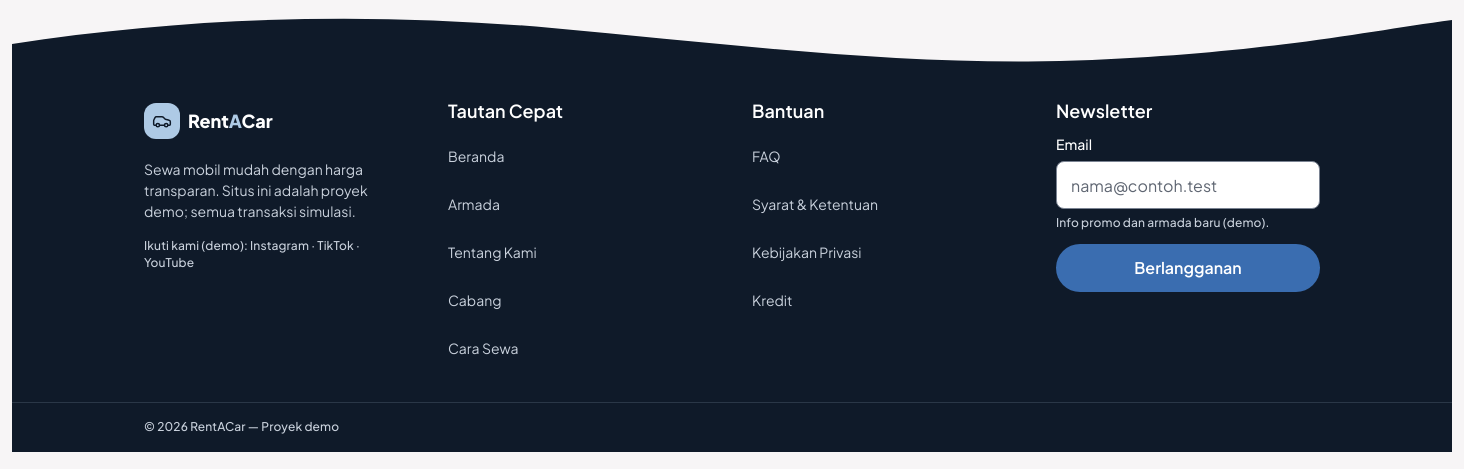
Test: Footer › rejects an invalid email without showing a toast
The image size is (1464, 469).
Type "budi@" into the field labelled "Email".
click(1188, 185); type("budi@")  # box top-left (1056, 161), bottom-right (1320, 209)
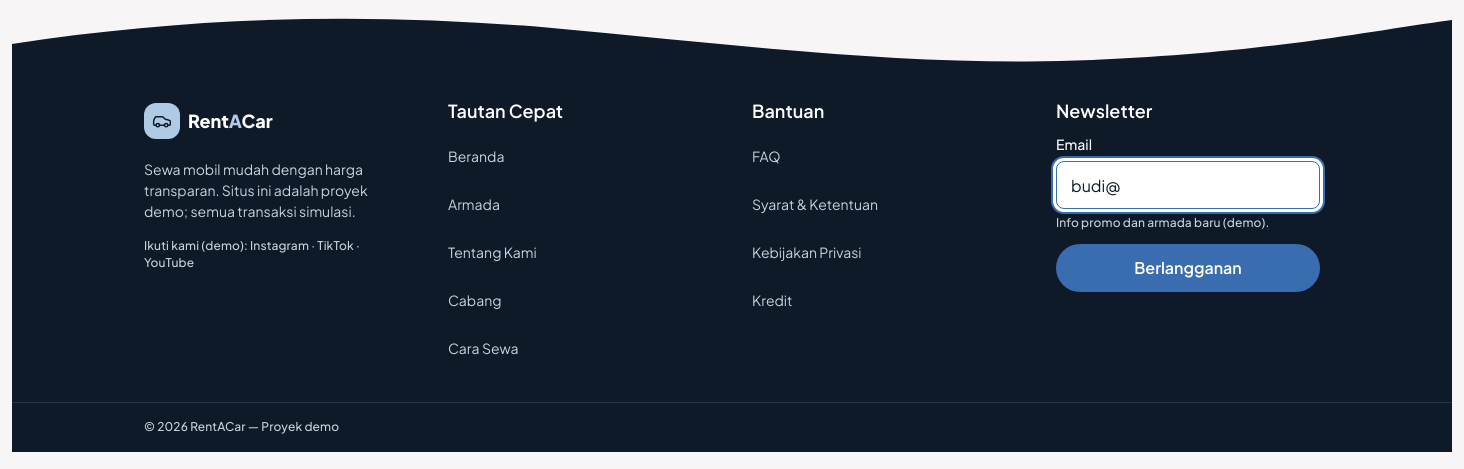
Click the button "Berlangganan".
click(1188, 268)  # box top-left (1056, 244), bottom-right (1320, 292)
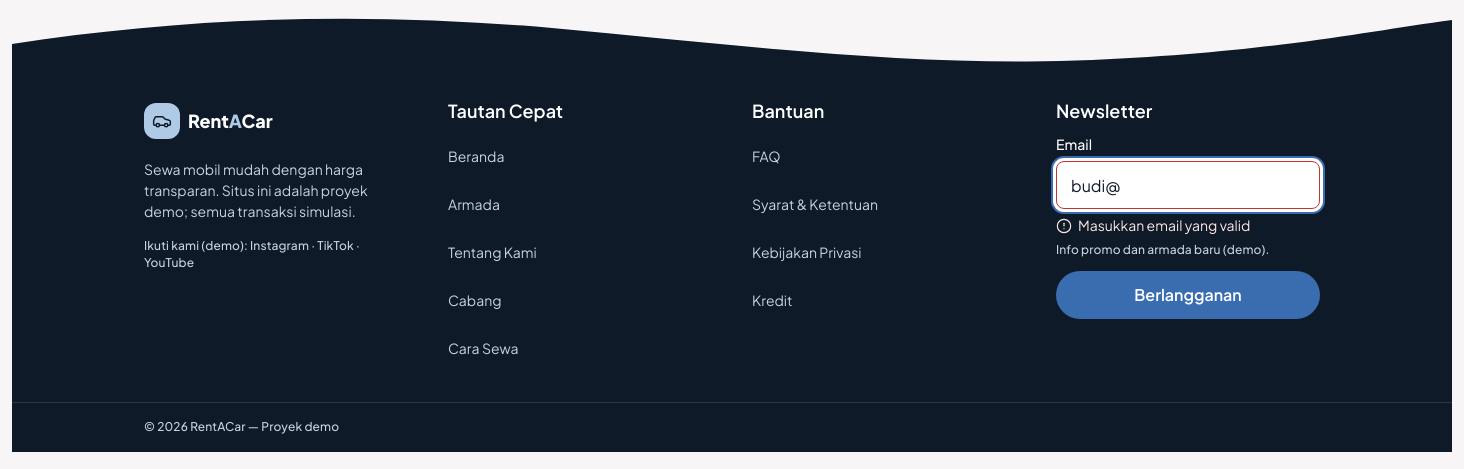
Expected: the text "Masukkan email yang valid" is shown, top-left (1056, 216), bottom-right (1250, 234)
